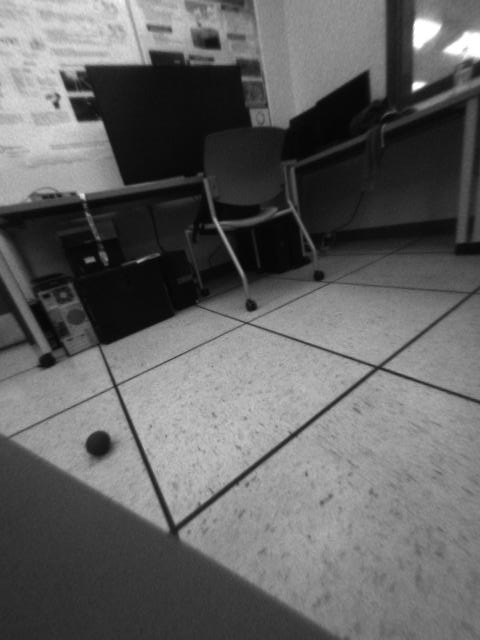dogtoy: (77, 422, 121, 464)
